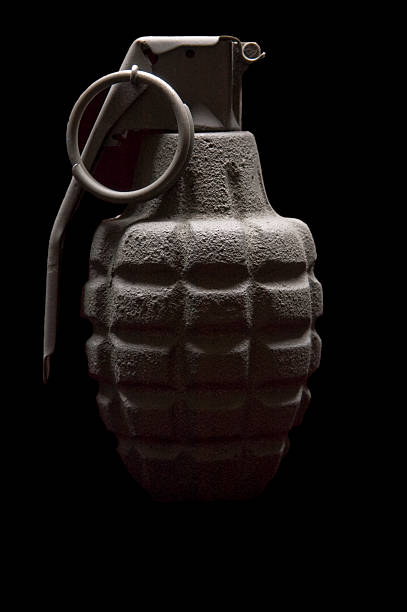e1: (39, 27, 325, 477)
